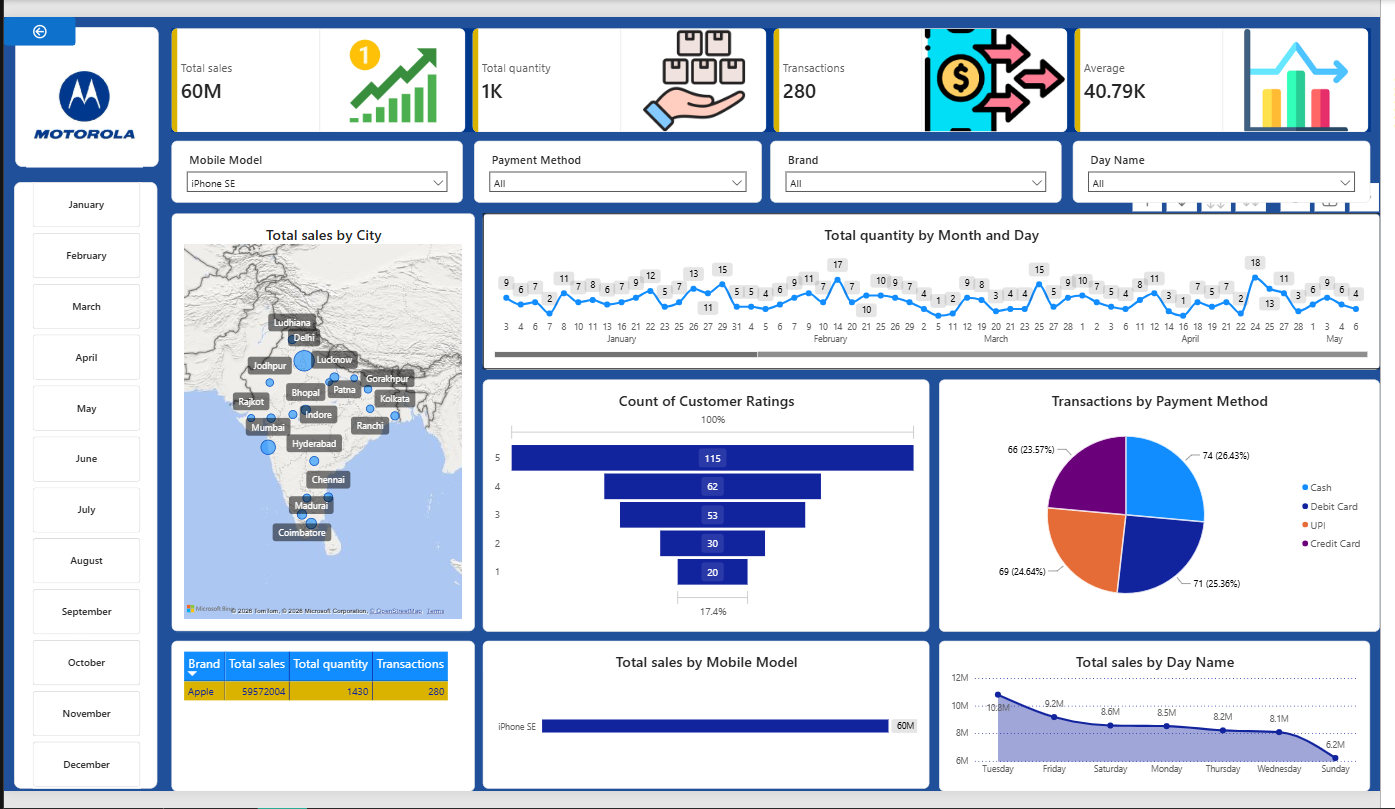

Layout of this report page (visuals, bound fields, positions):
{"tool":"powerbi","page":{"name":"Page 1","canvas":[1920,1080],"ordinal":0},"visuals":[{"type":"shape","box":[16.5,14.4,199.7,195.5],"z":0},{"type":"image","box":[30.9,35,162.6,175],"z":1000},{"type":"shape","box":[14,230,200,846],"z":2000},{"type":"advancedSlicerVisual","fields":{"Values":["Sheet1.Date.Variation.Date Hierarchy.Month"]},"box":[40,230,150,846],"z":3000},{"type":"cardVisual","fields":{"Data":["sales data.Total sales","sales data.Total quantity","sales data.Transactions","sales data.average"]},"box":[233.3,15,1673.3,145],"z":4000},{"type":"actionButton","box":[0,0,100,40],"z":5000},{"type":"map","fields":{"Category":["sales data.City"],"Size":["sales data.Total sales"]},"box":[233.3,273.3,423.3,583.3],"z":6000},{"type":"lineChart","fields":{"Y":["sales data.Total quantity"],"Category":["sales data.Date.Variation.Date Hierarchy.Month","sales data.Date.Variation.Date Hierarchy.Day"]},"box":[668.3,273.3,1251.7,218.3],"z":7000},{"type":"clusteredBarChart","fields":{"Category":["sales data.Mobile Model"],"Y":["sales data.Total sales"]},"box":[668.3,870,623.3,206.7],"z":8000},{"type":"pieChart","fields":{"Category":["sales data.Payment Method"],"Y":["sales data.Transactions"]},"box":[1305,505,615,351.7],"z":9000},{"type":"funnel","title":"Count of Customer Ratings ","fields":{"Category":["sales data.Customer Ratings"],"Y":["CountNonNull(sales data.Customer Ratings)"]},"box":[668.3,505,623.3,351.7],"z":10000},{"type":"areaChart","fields":{"Category":["sales data.Day Name"],"Y":["sales data.Total sales"]},"box":[1305,870,601.7,210],"z":11000},{"type":"slicer","fields":{"Values":["sales data.Mobile Model"]},"box":[233.3,173.3,406.7,86.7],"z":12000},{"type":"slicer","fields":{"Values":["sales data.Payment Method"]},"box":[656.7,173.3,401.7,86.7],"z":13000},{"type":"slicer","fields":{"Values":["sales data.Brand"]},"box":[1070,173.3,406.7,86.7],"z":14000},{"type":"slicer","fields":{"Values":["sales data.Day Name"]},"box":[1491.7,173.3,415,86.7],"z":15000},{"type":"tableEx","fields":{"Values":["sales data.Brand","sales data.Total sales","sales data.Total quantity","sales data.Transactions"]},"box":[233.3,870,423.3,210],"z":16000}]}

Visuals, with their boxes in screenshot pixels (x1, y1, x2, y2):
shape: bbox=(12, 25, 155, 165)
image: bbox=(22, 40, 139, 165)
shape: bbox=(10, 179, 153, 786)
advancedSlicerVisual - Sheet1.Date.Variation.Date Hierarchy.Month: bbox=(29, 179, 136, 786)
cardVisual - sales data.Total sales x sales data.Total quantity: bbox=(167, 25, 1366, 129)
actionButton: bbox=(0, 15, 72, 43)
map - sales data.City x sales data.Total sales: bbox=(167, 210, 470, 628)
lineChart - sales data.Total quantity x sales data.Date.Variation.Date Hierarchy.Month: bbox=(479, 210, 1376, 367)
clusteredBarChart - sales data.Mobile Model x sales data.Total sales: bbox=(479, 638, 925, 786)
pieChart - sales data.Payment Method x sales data.Transactions: bbox=(935, 376, 1376, 628)
"Count of Customer Ratings " funnel: bbox=(479, 376, 925, 628)
areaChart - sales data.Day Name x sales data.Total sales: bbox=(935, 638, 1366, 788)
slicer - sales data.Mobile Model: bbox=(167, 139, 459, 201)
slicer - sales data.Payment Method: bbox=(471, 139, 758, 201)
slicer - sales data.Brand: bbox=(767, 139, 1058, 201)
slicer - sales data.Day Name: bbox=(1069, 139, 1366, 201)
tableEx - sales data.Brand x sales data.Total sales: bbox=(167, 638, 470, 788)
